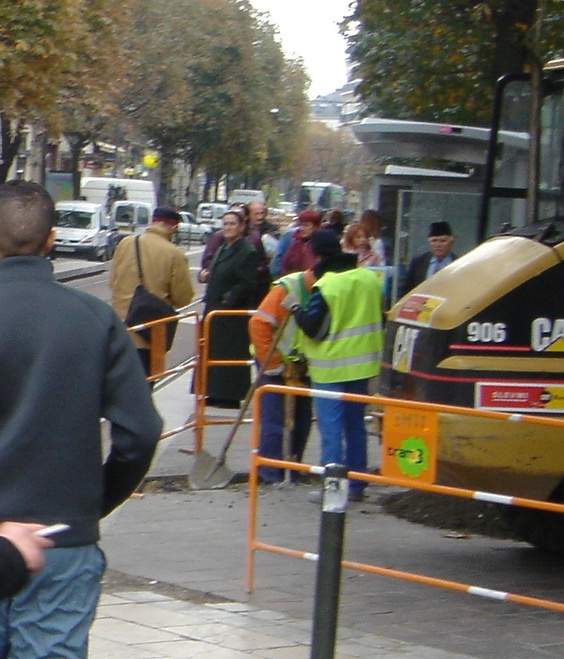person: (301, 229, 383, 503), (196, 206, 263, 406)
